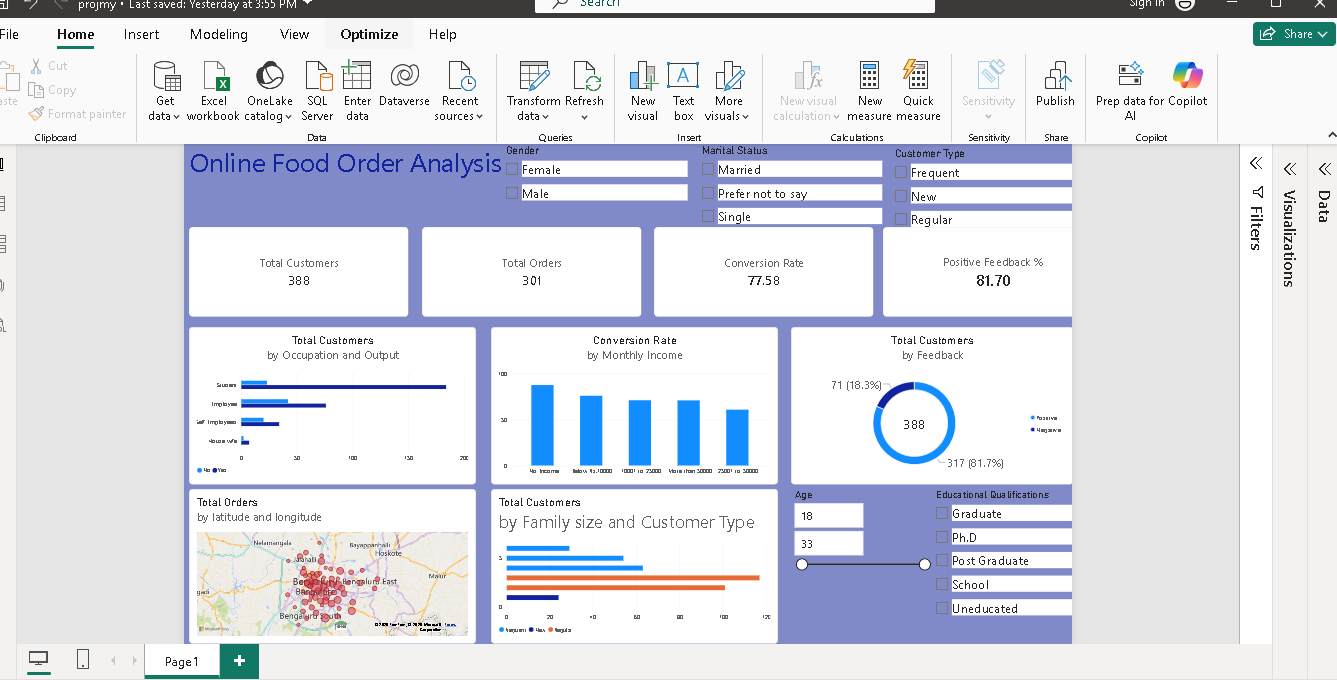

Layout of this report page (visuals, bound fields, positions):
{"tool":"powerbi","page":{"name":"Page 1","canvas":[1920,1080],"ordinal":0},"visuals":[{"type":"textbox","box":[10.1,0,677.8,194],"z":0},{"type":"slicer","fields":{"Values":["online_food.Customer Type"]},"box":[1526.9,7.6,393.1,224.3],"z":1},{"type":"slicer","fields":{"Values":["online_food.Gender"]},"box":[687.9,0,400.6,194],"z":2},{"type":"slicer","fields":{"Values":["online_food.Marital Status"]},"box":[1111.2,0,398.1,231.8],"z":3},{"type":"cardVisual","fields":{"Data":["online_food.Total Customers"]},"box":[10.1,178.9,474,194],"z":4},{"type":"cardVisual","fields":{"Data":["online_food.Total Orders"]},"box":[514,178.9,474,194],"z":5},{"type":"cardVisual","fields":{"Data":["online_food.Positive Feedback %"]},"box":[1509.3,178.9,474,194],"z":6},{"type":"cardVisual","fields":{"Data":["online_food.Conversion Rate"]},"box":[1015.4,178.9,474,194],"z":7},{"type":"clusteredBarChart","fields":{"Category":["online_food.Occupation"],"Series":["online_food.Output"],"Y":["online_food.Total Customers"]},"box":[10.1,395.6,619.8,340.2],"z":8},{"type":"clusteredColumnChart","fields":{"Category":["online_food.Monthly Income"],"Y":["online_food.Conversion Rate"]},"box":[662.7,395.6,619.8,340.2],"z":9},{"type":"donutChart","fields":{"Category":["online_food.Feedback"],"Y":["online_food.Total Customers"]},"box":[1310.2,395.6,609.8,340.2],"z":10},{"type":"map","fields":{"X":["online_food.longitude"],"Y":["online_food.latitude"]},"box":[10,746,620,334],"z":11},{"type":"barChart","fields":{"Category":["online_food.Family size"],"Series":["online_food.Customer Type"],"Y":["online_food.Total Customers"]},"box":[663,746,620,334],"z":12},{"type":"slicer","fields":{"Values":["online_food.Age"]},"box":[1310.2,745.8,304.9,335.1],"z":13},{"type":"slicer","fields":{"Values":["online_food.Educational Qualifications"]},"box":[1615,746,305,334],"z":14}]}

Visuals, with their boxes on the page's 1920x1080 design canvas (x1, y1, x2, y2). These are canvas units, not pixel positions in the 1337x680 screenshot, which may show the page scaled, cropped or inside an application window:
textbox: (x1=10, y1=0, x2=688, y2=194)
slicer - online_food.Customer Type: (x1=1527, y1=8, x2=1920, y2=232)
slicer - online_food.Gender: (x1=688, y1=0, x2=1088, y2=194)
slicer - online_food.Marital Status: (x1=1111, y1=0, x2=1509, y2=232)
cardVisual - online_food.Total Customers: (x1=10, y1=179, x2=484, y2=373)
cardVisual - online_food.Total Orders: (x1=514, y1=179, x2=988, y2=373)
cardVisual - online_food.Positive Feedback %: (x1=1509, y1=179, x2=1983, y2=373)
cardVisual - online_food.Conversion Rate: (x1=1015, y1=179, x2=1489, y2=373)
clusteredBarChart - online_food.Occupation x online_food.Output: (x1=10, y1=396, x2=630, y2=736)
clusteredColumnChart - online_food.Monthly Income x online_food.Conversion Rate: (x1=663, y1=396, x2=1282, y2=736)
donutChart - online_food.Feedback x online_food.Total Customers: (x1=1310, y1=396, x2=1920, y2=736)
map - online_food.longitude x online_food.latitude: (x1=10, y1=746, x2=630, y2=1080)
barChart - online_food.Family size x online_food.Customer Type: (x1=663, y1=746, x2=1283, y2=1080)
slicer - online_food.Age: (x1=1310, y1=746, x2=1615, y2=1081)
slicer - online_food.Educational Qualifications: (x1=1615, y1=746, x2=1920, y2=1080)
